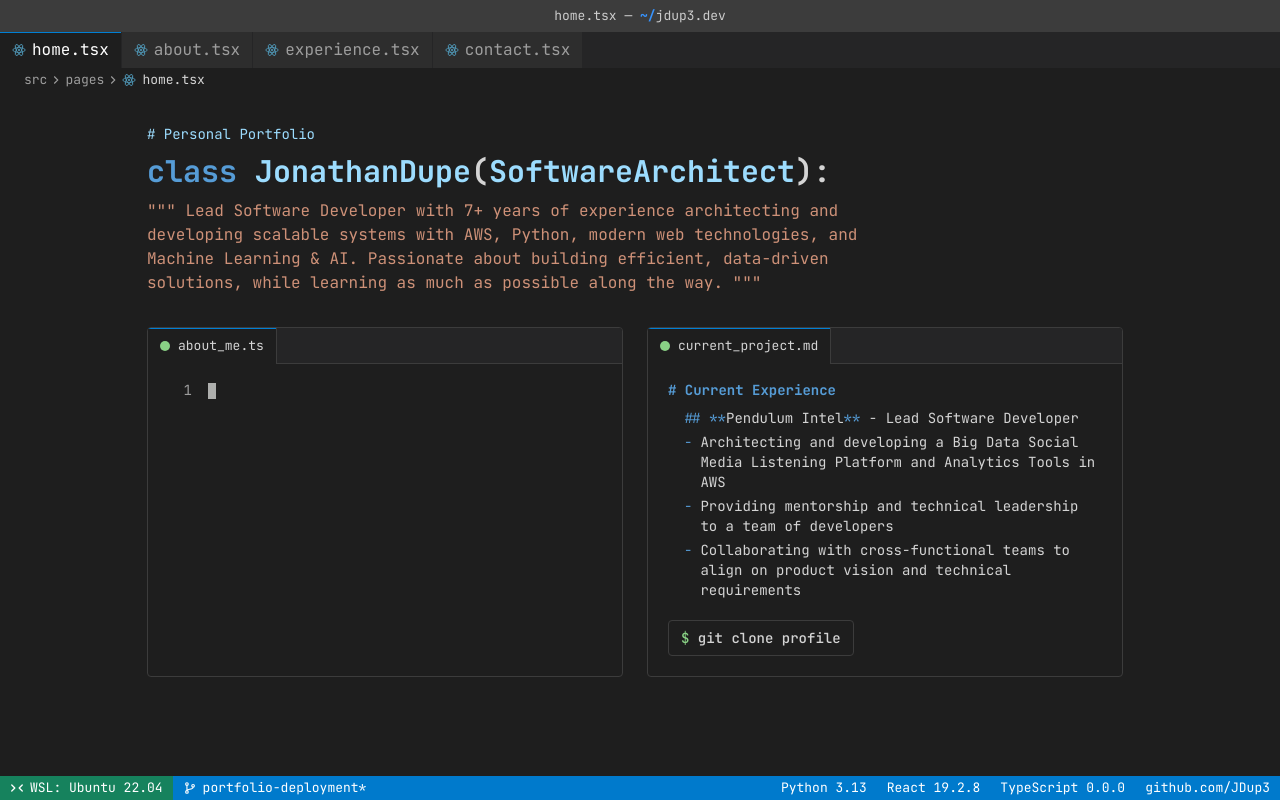
Test: tab bar › opens a page from its tab and moves the current marker
Step 1. Click the link "experience.tsx" → (343, 50), box [253,32,433,68]
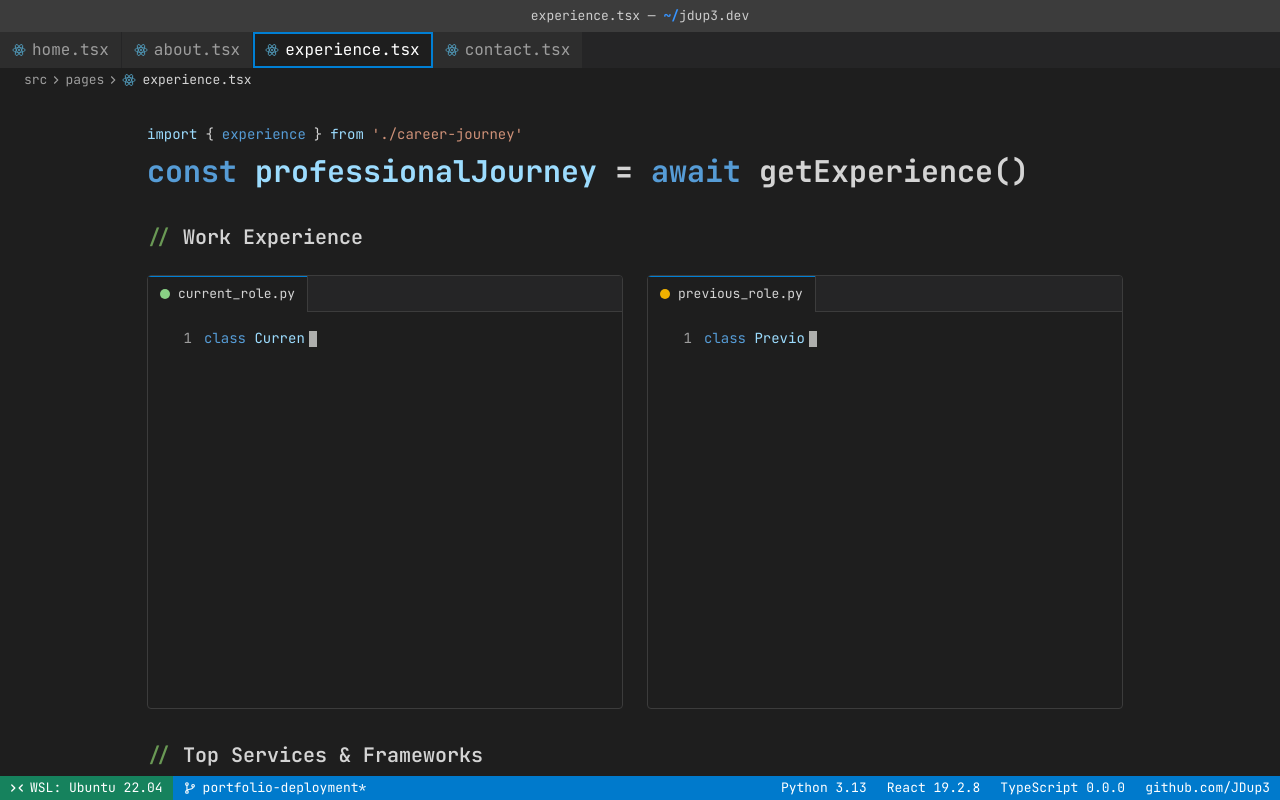
Now the heading "const professionalJourney = await getExperience()" is shown, box [147,152,1123,191]
